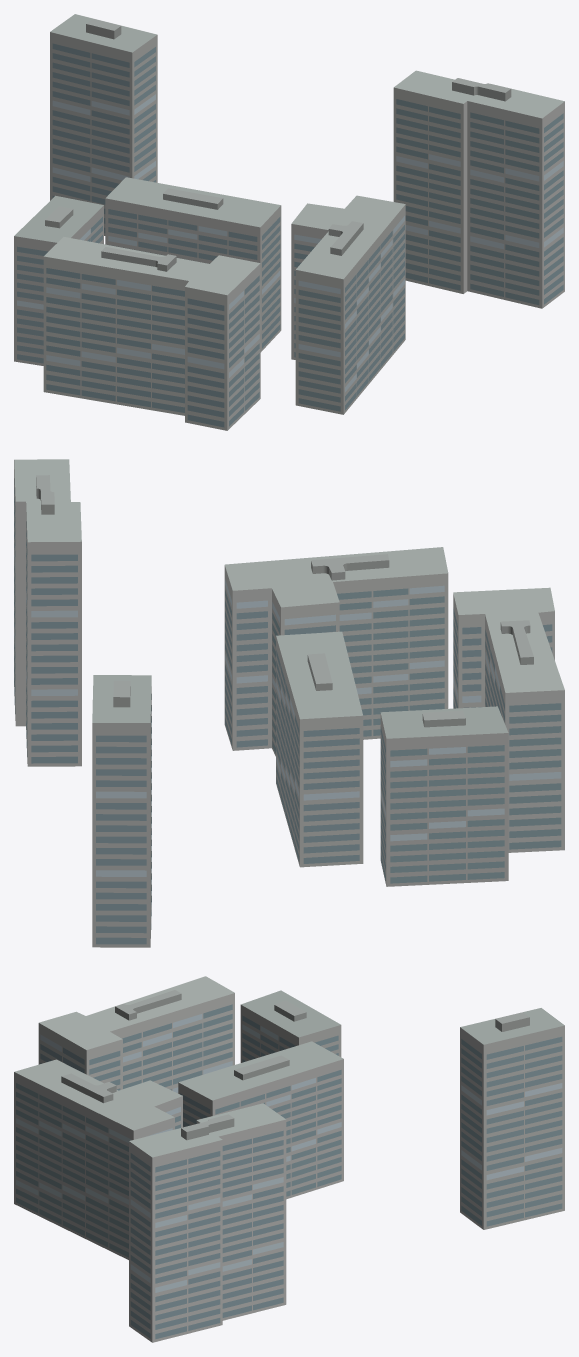
Rendered from apt-a15609301.glb.
3 views of the same model, one above another, from view 1: azimuth 30°, elevation 25°; view 2: azimuth 150°, elevation 25°; view 3: azimuth 270°, elevation 25° (orthographic). The views are drawn at different scales.
Parts seen in each view (by area): view 1: apt-a15609301; view 2: apt-a15609301; view 3: apt-a15609301.
Part boxes in pixels (x1=…): apt-a15609301: x1=14, y1=14, x2=564, y2=430; apt-a15609301: x1=14, y1=459, x2=564, y2=947; apt-a15609301: x1=14, y1=976, x2=564, y2=1342.
Bounding box in the file's own units: 146 × 56 × 144.
